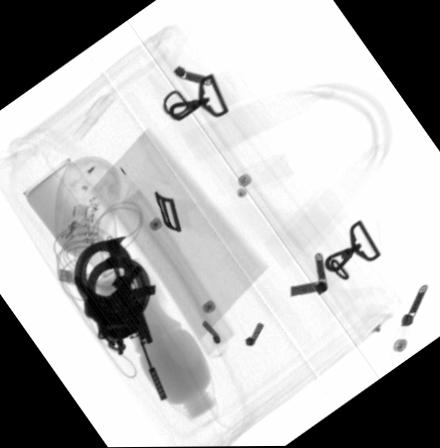Gun: (103, 239, 168, 405)
HandCuffs: (70, 237, 152, 359)
